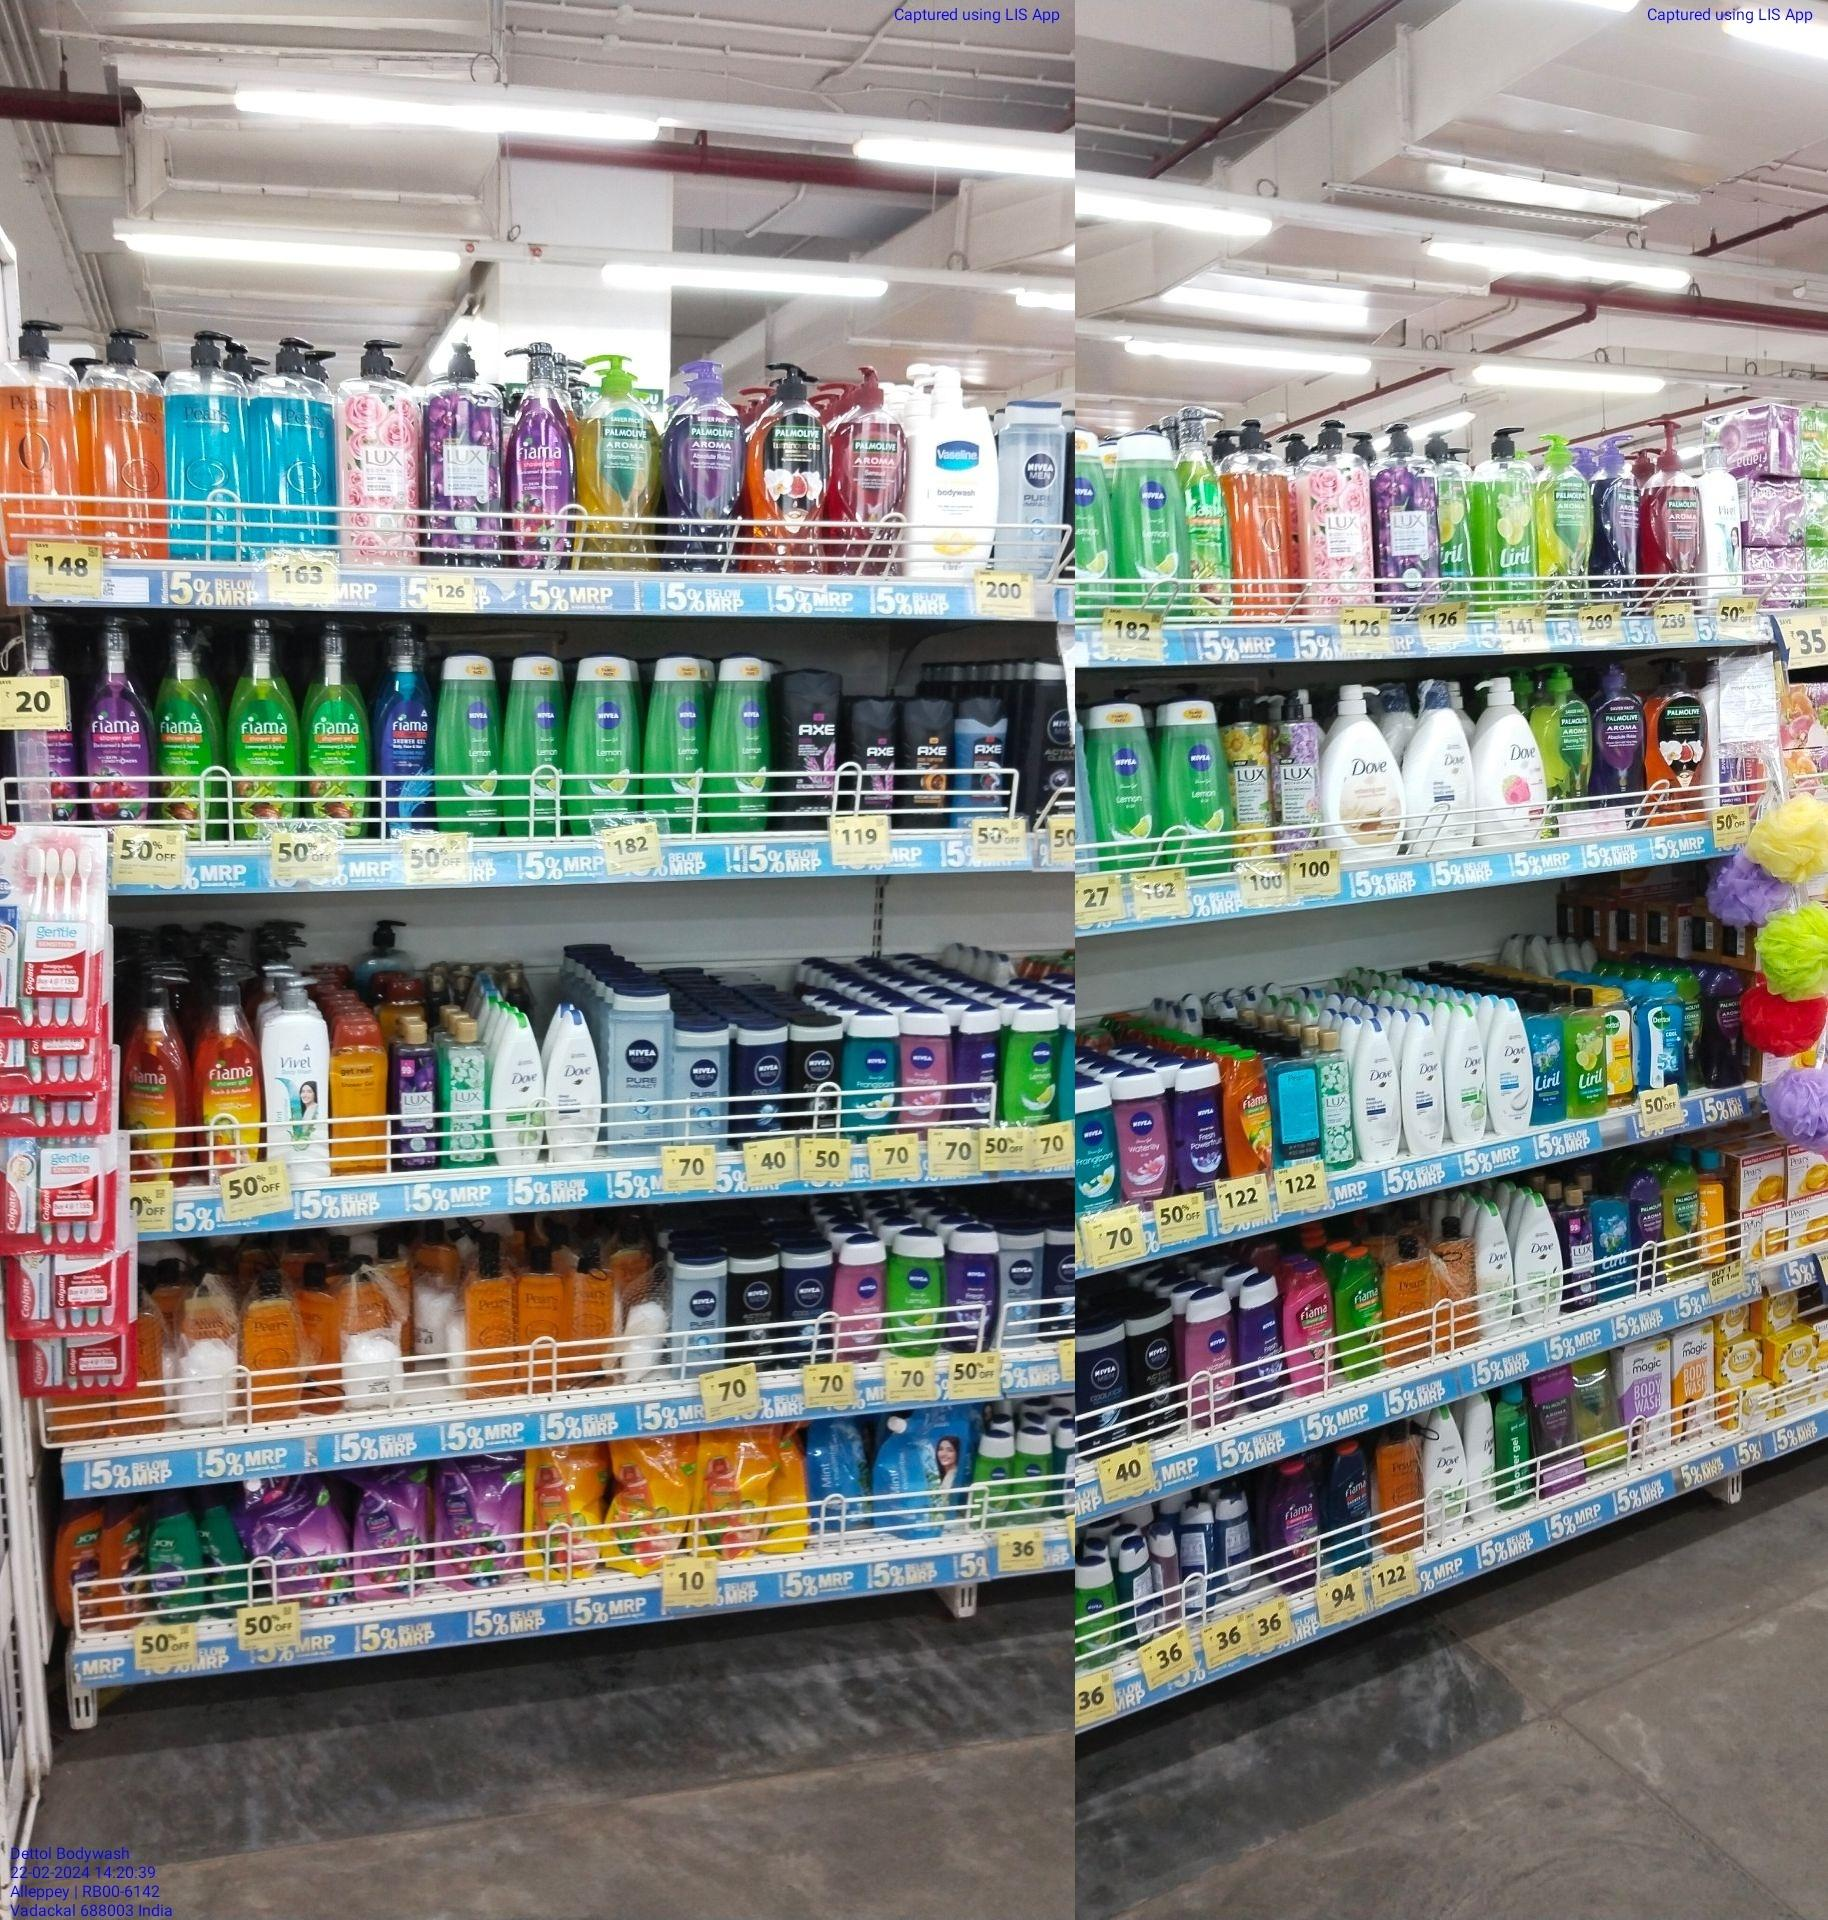Dettol_Bodywash_Cool: (1636, 982, 1686, 1095)
Dettol_Bodywash_Refresh: (1605, 986, 1634, 1109)
Dove_Deep_Moisture_Body_Wash_250ML: (544, 1011, 600, 1159), (1355, 1018, 1403, 1166), (1404, 1011, 1444, 1155)
Dove_Gentle_Exfoliating_Body_Wash_250ML: (1490, 994, 1536, 1133)
Dove_Refreshing_Body_Wash_250ML: (492, 1013, 544, 1164), (1446, 1001, 1488, 1147), (1516, 1195, 1560, 1320), (1423, 1406, 1464, 1536), (1475, 1202, 1514, 1334)
Fiama_Shower_Gel_Lemongrass_and_Jojoba_250ML: (1339, 1245, 1384, 1375)
Fiama_Shower_Gel_Patchouli_and_Macadamia_250ML: (1288, 1257, 1336, 1392)
Fiama_Shower_Gel_Peach_and_Avocado_250ML: (1224, 1051, 1272, 1171)
Joy_Shower_Gel_Mandarin_and_Lemongrass_250ML: (57, 1505, 105, 1627), (106, 1495, 147, 1632)
Joy_Shower_Gel_Mint_and_Eucalyptus_250ML: (147, 1502, 201, 1627)
Liril_Cooling_Mint_Body_Wash_250ML: (1595, 1173, 1634, 1296), (1536, 993, 1562, 1123)
Liril_Lime_and_Tea_Tree_Oil_Body_Wash_250ML: (1564, 987, 1605, 1118)
Lux_Black_Orchid_Scent_and_Juniper_Oil_Body_Wash_245ML: (389, 1017, 437, 1167), (1560, 1183, 1596, 1310)
Lux_Body_Wash_Skin_Detox_Freesia_Scent_and_Alove_Vera_245ML: (441, 1017, 489, 1162), (1315, 1027, 1351, 1173)
Nivea_Shower_Gel_Frangipani_and_Oil_250ML: (844, 1010, 897, 1135), (1075, 1077, 1111, 1214)
Nivea_Shower_Gel_Fresh_Powerfruit_250ML: (1235, 1272, 1284, 1419), (945, 1226, 996, 1353), (1175, 1059, 1219, 1183), (952, 1006, 996, 1125)
Nivea_Shower_Gel_Lemon_and_Oil_250ML: (1115, 429, 1190, 614), (1092, 701, 1170, 867), (436, 651, 501, 837), (569, 657, 636, 833), (641, 657, 705, 833), (504, 651, 562, 833), (712, 658, 770, 830), (1173, 694, 1228, 871), (333, 1017, 388, 1174), (888, 1227, 945, 1361), (1007, 1005, 1056, 1126)
Nivea_Shower_Gel_Waterlily_and_Oil_250ML: (1115, 1066, 1171, 1195), (832, 1229, 885, 1359), (1183, 1286, 1230, 1423), (899, 1006, 948, 1130)
Palmolive_Aroma_Morning_Tonic_Shower_Gel_250ML: (1669, 1161, 1699, 1279)
Palmolive_Aroma_Relax_250ML: (1705, 969, 1746, 1089), (1636, 1167, 1667, 1287)
